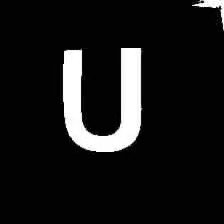LTR_U: (49, 33, 153, 160)
